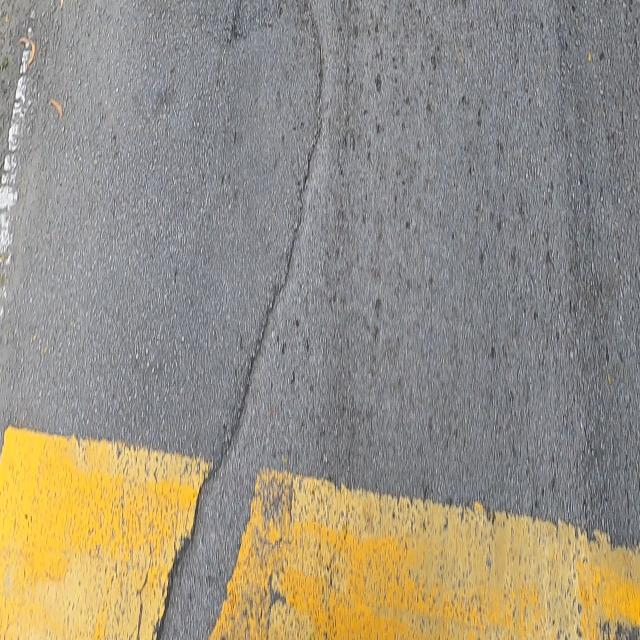Retak-Memanjang: (153, 23, 328, 640)
